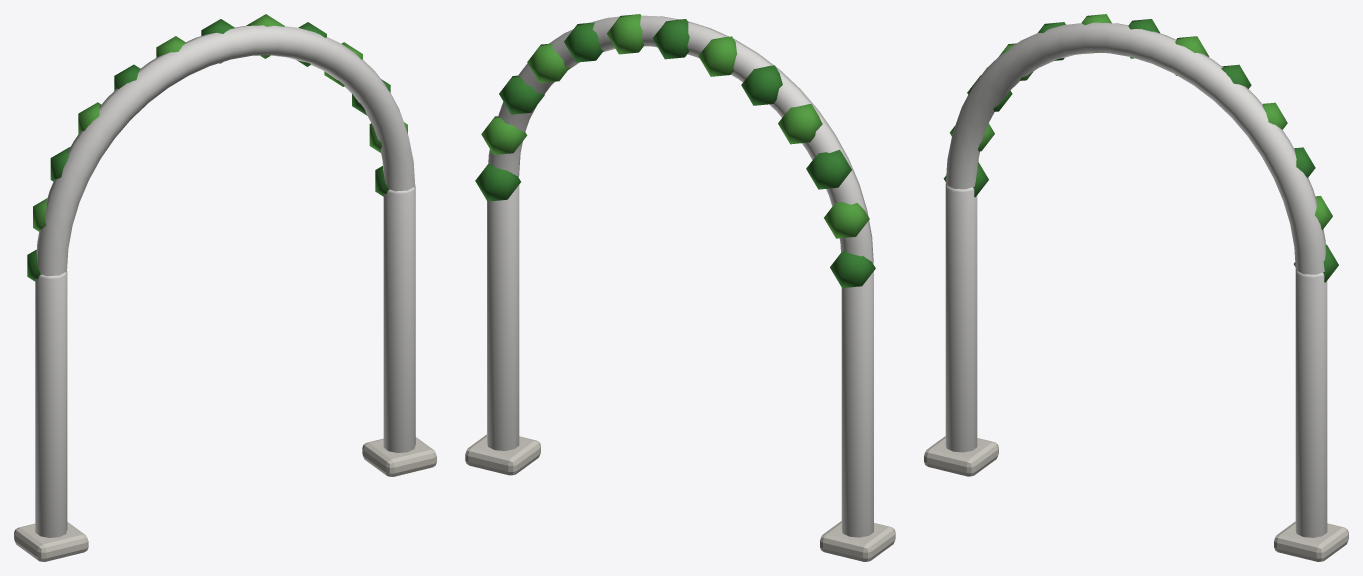
Rendered from wedding_arch.fbx.
3 renders of one model, left to right at view 1: azimuth 30°, elevation 25°; view 2: azimuth 150°, elevation 25°; view 3: azimuth 330°, elevation 25°, orthographic.
Visible parts, largest first — view 1: wedding_arch; view 2: wedding_arch; view 3: wedding_arch.
Boxes of the visible parts, x1,y1,x2,y2 form: wedding_arch: [14, 14, 436, 561]; wedding_arch: [465, 14, 895, 561]; wedding_arch: [924, 14, 1348, 561].
Size of the model in its own units: 1.42 by 1.63 by 0.19.
